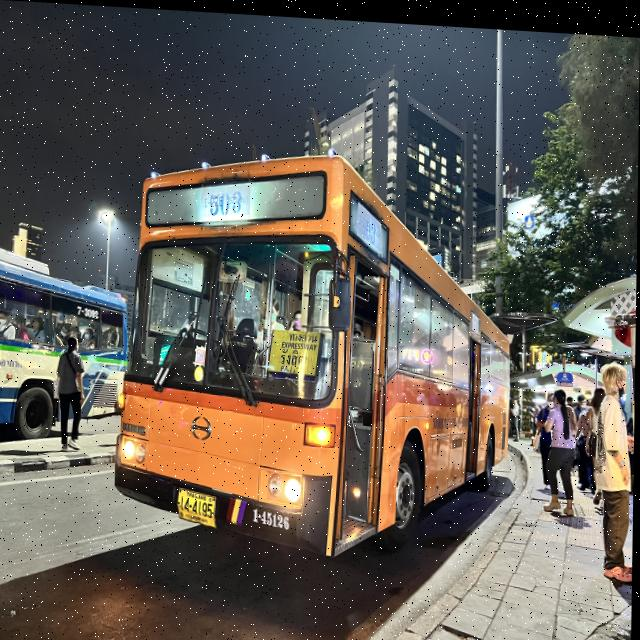BMTA-bus: (114, 153, 512, 555)
Bus Line Number: (199, 176, 258, 218)
Bus Side Number: (249, 496, 298, 533)
Destination Sign: (267, 323, 326, 378)
